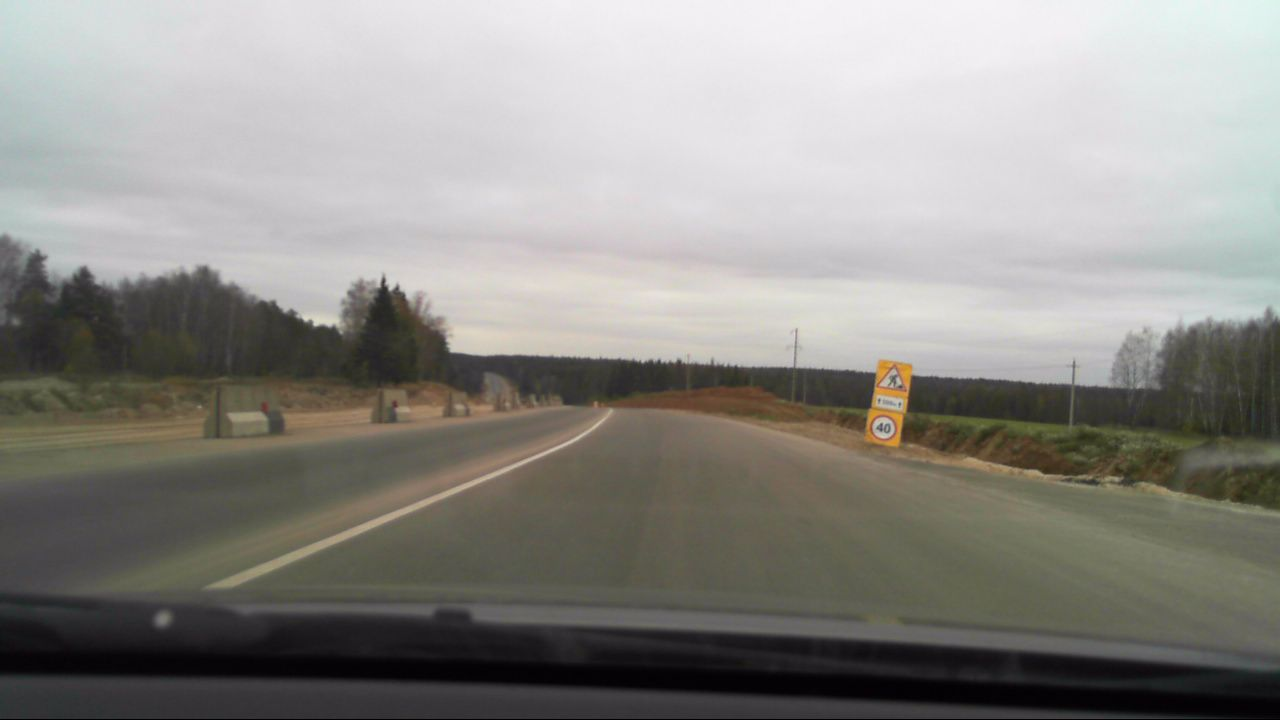speed_warning_40: (867, 413, 897, 442)
